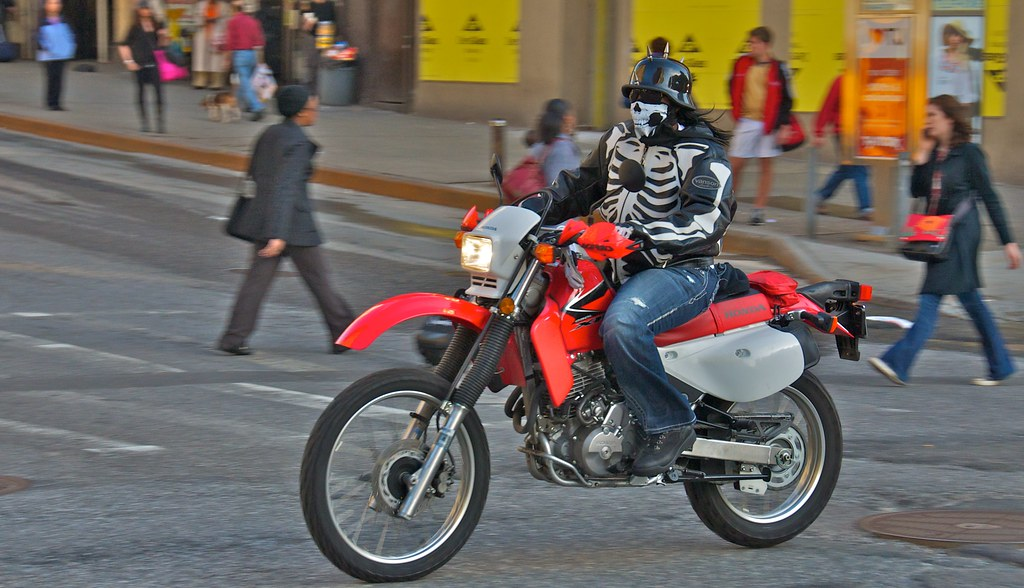helmet: (632, 56, 698, 110)
